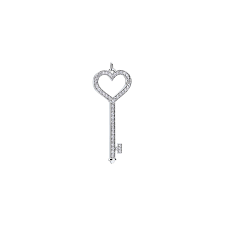kicharina: (89, 58, 134, 168)
